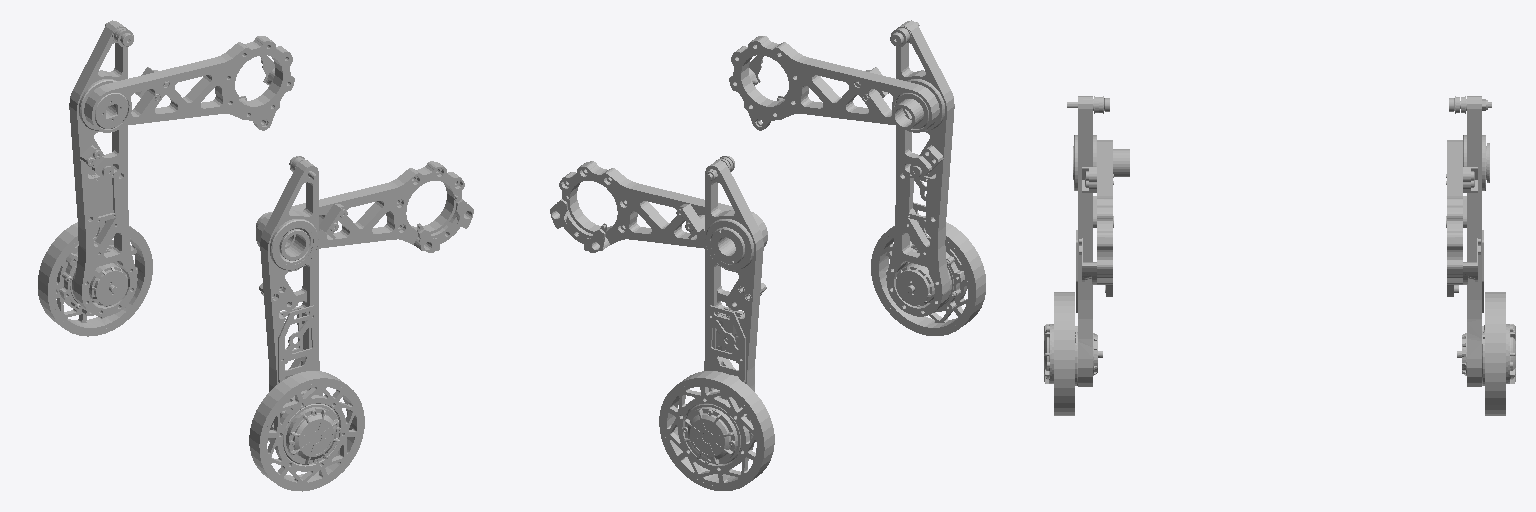
The robot description file, URDF, robot "serialleg":
<?xml version="1.0" encoding="utf-8"?>
<!-- This URDF was automatically created by SolidWorks to URDF Exporter! Originally created by Stephen Brawner (brawner@gmail.com) 
     Commit Version: 1.6.0-4-g7f85cfe  Build Version: 1.6.7995.38578
     For more information, please see http://wiki.ros.org/sw_urdf_exporter -->
<robot name="serialleg" version="1.0">
  <link name="base_link">
    <inertial>
      <origin xyz="-0.02538499 -0.02771589 -0.01835494" rpy="0.0 0.0 0.0"/>
      <mass value="11.88315011"/>
      <inertia ixx="0.15692301" ixy="-4.4833e-05" ixz="0.00570855" iyy="0.16431743" iyz="0.00218109" izz="0.25847355"/>
    </inertial>
    <visual>
      <origin xyz="0.0 0.0 0.0" rpy="0.0 0.0 0.0"/>
      <geometry>
        <mesh filename="../meshes/base_link.STL"/>
      </geometry>
      <material name="">
        <color rgba="0.75294 0.75294 0.75294 1.0"/>
      </material>
    </visual>
    <collision>
      <origin xyz="0.0 0.0 0.0" rpy="0.0 0.0 0.0"/>
      <geometry>
        <mesh filename="../meshes/base_link_0.obj"/>
      </geometry>
    </collision>
    <collision>
      <origin xyz="0.0 0.0 0.0" rpy="0.0 0.0 0.0"/>
      <geometry>
        <mesh filename="../meshes/base_link_1.obj"/>
      </geometry>
    </collision>
    <collision>
      <origin xyz="0.0 0.0 0.0" rpy="0.0 0.0 0.0"/>
      <geometry>
        <mesh filename="../meshes/base_link_2.obj"/>
      </geometry>
    </collision>
    <collision>
      <origin xyz="0.0 0.0 0.0" rpy="0.0 0.0 0.0"/>
      <geometry>
        <mesh filename="../meshes/base_link_3.obj"/>
      </geometry>
    </collision>
    <collision>
      <origin xyz="0.0 0.0 0.0" rpy="0.0 0.0 0.0"/>
      <geometry>
        <mesh filename="../meshes/base_link_4.obj"/>
      </geometry>
    </collision>
    <collision>
      <origin xyz="0.0 0.0 0.0" rpy="0.0 0.0 0.0"/>
      <geometry>
        <mesh filename="../meshes/base_link_5.obj"/>
      </geometry>
    </collision>
    <collision>
      <origin xyz="0.0 0.0 0.0" rpy="0.0 0.0 0.0"/>
      <geometry>
        <mesh filename="../meshes/base_link_6.obj"/>
      </geometry>
    </collision>
    <collision>
      <origin xyz="0.0 0.0 0.0" rpy="0.0 0.0 0.0"/>
      <geometry>
        <mesh filename="../meshes/base_link_7.obj"/>
      </geometry>
    </collision>
    <collision>
      <origin xyz="0.0 0.0 0.0" rpy="0.0 0.0 0.0"/>
      <geometry>
        <mesh filename="../meshes/base_link_8.obj"/>
      </geometry>
    </collision>
    <collision>
      <origin xyz="0.0 0.0 0.0" rpy="0.0 0.0 0.0"/>
      <geometry>
        <mesh filename="../meshes/base_link_9.obj"/>
      </geometry>
    </collision>
    <collision>
      <origin xyz="0.0 0.0 0.0" rpy="0.0 0.0 0.0"/>
      <geometry>
        <mesh filename="../meshes/base_link_10.obj"/>
      </geometry>
    </collision>
    <collision>
      <origin xyz="0.0 0.0 0.0" rpy="0.0 0.0 0.0"/>
      <geometry>
        <mesh filename="../meshes/base_link_11.obj"/>
      </geometry>
    </collision>
  </link>

  <joint name="lf0_Joint" type="revolute">
    <origin xyz="0.0 0.14231 0.020745" rpy="0.0 0.0 0.0"/>
    <axis xyz="0.0 -1.0 0.0"/>
    <parent link="base_link"/>
    <child link="lf0_Link"/>
    <limit effort="45.0" velocity="200.0"/>
    <dynamics damping="0" friction="0"/>
  </joint>

  <link name="lf0_Link">
    <inertial>
      <origin xyz="-0.091189 0.0042584 0.003001" rpy="0.0 0.0 0.0"/>
      <mass value="0.30144"/>
      <inertia ixx="0.00013482" ixy="7.354e-05" ixz="9.6e-05" iyy="0.00152034" iyz="-3.28e-06" izz="0.00144027"/>
    </inertial>
    <visual>
      <origin xyz="0.0 0.0 0.0" rpy="0.0 0.0 0.0"/>
      <geometry>
        <mesh filename="../meshes/Left_thigh_link.STL"/>
      </geometry>
      <material name="">
        <color rgba="0.75294 0.75294 0.75294 1.0"/>
      </material>
    </visual>
    <collision>
      <origin xyz="0.0 0.0 0.0" rpy="0.0 0.0 0.0"/>
      <geometry>
        <mesh filename="../meshes/Left_thigh_link_0.obj"/>
      </geometry>
    </collision>
    <collision>
      <origin xyz="0.0 0.0 0.0" rpy="0.0 0.0 0.0"/>
      <geometry>
        <mesh filename="../meshes/Left_thigh_link_1.obj"/>
      </geometry>
    </collision>
    <collision>
      <origin xyz="0.0 0.0 0.0" rpy="0.0 0.0 0.0"/>
      <geometry>
        <mesh filename="../meshes/Left_thigh_link_2.obj"/>
      </geometry>
    </collision>
    <collision>
      <origin xyz="0.0 0.0 0.0" rpy="0.0 0.0 0.0"/>
      <geometry>
        <mesh filename="../meshes/Left_thigh_link_3.obj"/>
      </geometry>
    </collision>
    <collision>
      <origin xyz="0.0 0.0 0.0" rpy="0.0 0.0 0.0"/>
      <geometry>
        <mesh filename="../meshes/Left_thigh_link_4.obj"/>
      </geometry>
    </collision>
  </link>

  <joint name="lf1_Joint" type="revolute">
    <origin xyz="-0.16689 0.01655 0.0059238" rpy="0.0 0.0 0.0"/>
    <axis xyz="0.0 -1.0 0.0"/>
    <parent link="lf0_Link"/>
    <child link="lf1_Link"/>
    <limit effort="45.0" lower="-0.6" upper="0.8" velocity="200.0"/>    <dynamics damping="0" friction="0"/>  </joint>

  <link name="lf1_Link">
    <inertial>
      <origin xyz="0.0042171 0.0011806 -0.06717" rpy="0.0 0.0 0.0"/>
      <mass value="0.34590115"/>
      <inertia ixx="0.00228076" ixy="-2.25e-06" ixz="-2.679e-05" iyy="0.00237137" iyz="2.641e-05" izz="0.00012383"/>
    </inertial>
    <visual>
      <origin xyz="0.0 0.0 0.0" rpy="0.0 0.0 0.0"/>
      <geometry>
        <mesh filename="../meshes/Left_calf_link.STL"/>
      </geometry>
      <material name="">
        <color rgba="0.75294 0.75294 0.75294 1.0"/>
      </material>
    </visual>
    <collision>
      <origin xyz="0.0 0.0 0.0" rpy="0.0 0.0 0.0"/>
      <geometry>
        <mesh filename="../meshes/Left_calf_link_0.obj"/>
      </geometry>
    </collision>
  </link>

  <joint name="l_wheel_Joint" type="revolute">
    <origin xyz="0.0081627 0.0295 -0.19983" rpy="0.0 0.0 0.0"/>
    <axis xyz="0.0 1.0 0.0"/>
    <parent link="lf1_Link"/>
    <child link="l_wheel_Link"/>
    <limit effort="2.0"  velocity="49.1.0"/>
    <dynamics damping="0" friction="0"/>
  </joint>

  <link name="l_wheel_Link">
    <inertial>
      <origin xyz="-1.0398e-05 -0.0066023 -0.00011589" rpy="0.0 0.0 0.0"/>
      <mass value="0.27783"/>
      <inertia ixx="0.00026478" ixy="-2e-08" ixz="5e-08" iyy="0.0004808" iyz="-3.2e-07" izz="0.00026541"/>
    </inertial>
    <visual>
      <origin xyz="0.0 0.0 0.0" rpy="0.0 0.0 0.0"/>
      <geometry>
        <mesh filename="../meshes/Left_wheel_link.STL"/>
      </geometry>
      <material name="">
        <color rgba="0.75294 0.75294 0.75294 1.0"/>
      </material>
    </visual>
    <collision>
      <origin xyz="0.0 0.0 0.0" rpy="0.0 0.0 0.0"/>
      <geometry>
        <mesh filename="../meshes/Left_wheel_link_0.obj"/>
      </geometry>
    </collision>
    <collision>
      <origin xyz="0.0 0.0 0.0" rpy="0.0 0.0 0.0"/>
      <geometry>
        <mesh filename="../meshes/Left_wheel_link_1.obj"/>
      </geometry>
    </collision>
  </link>

  <joint name="rf0_Joint" type="revolute">
    <origin xyz="0.0 -0.19539 0.020745" rpy="0.0 0.0 0.0"/>
    <axis xyz="0.0 -1.0 0.0"/>
    <parent link="base_link"/>
    <child link="rf0_Link"/>
    <limit effort="45.0" velocity="200.0"/>    <dynamics damping="0" friction="0"/>  </joint>

  <link name="rf0_Link">
    <inertial>
      <origin xyz="-0.10463 -0.0030141 0.0035992" rpy="0.0 0.0 0.0"/>
      <mass value="0.30144247"/>
      <inertia ixx="0.00012942" ixy="-2.305e-05" ixz="9.598e-05" iyy="0.00152033" iyz="1.5e-06" izz="0.00143483"/>
    </inertial>
    <visual>
      <origin xyz="0.0 0.0 0.0" rpy="0.0 0.0 0.0"/>
      <geometry>
        <mesh filename="../meshes/Right_thigh_link.STL"/>
      </geometry>
      <material name="">
        <color rgba="0.75294 0.75294 0.75294 1.0"/>
      </material>
    </visual>
    <collision>
      <origin xyz="0.0 0.0 0.0" rpy="0.0 0.0 0.0"/>
      <geometry>
        <mesh filename="../meshes/Right_thigh_link_0.obj"/>
      </geometry>
    </collision>
    <collision>
      <origin xyz="0.0 0.0 0.0" rpy="0.0 0.0 0.0"/>
      <geometry>
        <mesh filename="../meshes/Right_thigh_link_1.obj"/>
      </geometry>
    </collision>
    <collision>
      <origin xyz="0.0 0.0 0.0" rpy="0.0 0.0 0.0"/>
      <geometry>
        <mesh filename="../meshes/Right_thigh_link_2.obj"/>
      </geometry>
    </collision>
    <collision>
      <origin xyz="0.0 0.0 0.0" rpy="0.0 0.0 0.0"/>
      <geometry>
        <mesh filename="../meshes/Right_thigh_link_3.obj"/>
      </geometry>
    </collision>
    <collision>
      <origin xyz="0.0 0.0 0.0" rpy="0.0 0.0 0.0"/>
      <geometry>
        <mesh filename="../meshes/Right_thigh_link_4.obj"/>
      </geometry>
    </collision>
    <collision>
      <origin xyz="0.0 0.0 0.0" rpy="0.0 0.0 0.0"/>
      <geometry>
        <mesh filename="../meshes/Right_thigh_link_5.obj"/>
      </geometry>
    </collision>
  </link>

  <joint name="rf1_Joint" type="revolute">
    <origin xyz="-0.16677 -0.014325 0.0086821" rpy="0.0 0.0 0.0"/>
    <axis xyz="0.0 -1.0 0.0"/>
    <parent link="rf0_Link"/>
    <child link="rf1_Link"/>
    <limit effort="45.0" lower="-0.6" upper="0.8" velocity="200.0"/>    <dynamics damping="0" friction="0"/>  </joint>

  <link name="rf1_Link">
    <inertial>
      <origin xyz="0.0043749 -0.0027358 -0.055672" rpy="0.0 0.0 0.0"/>
      <mass value="0.29927995"/>
      <inertia ixx="0.00217436" ixy="5e-07" ixz="-2.394e-05" iyy="0.00226126" iyz="-2.371e-05" izz="0.00011464"/>
    </inertial>
    <visual>
      <origin xyz="0.0 0.0 0.0" rpy="0.0 0.0 0.0"/>
      <geometry>
        <mesh filename="../meshes/Right_calf_link.STL"/>
      </geometry>
      <material name="">
        <color rgba="0.75294 0.75294 0.75294 1.0"/>
      </material>
    </visual>
    <collision>
      <origin xyz="0.0 0.0 0.0" rpy="0.0 0.0 0.0"/>
      <geometry>
        <mesh filename="../meshes/Right_calf_link_0.obj"/>
      </geometry>
    </collision>
  </link>

  <joint name="r_wheel_Joint" type="revolute">
    <origin xyz="0.0080419 -0.031725 -0.20259" rpy="0.0 0.0 0.0"/>
    <axis xyz="0.0 1.0 0.0"/>
    <parent link="rf1_Link"/>
    <child link="r_wheel_Link"/>
    <limit effort="2.0"  velocity="49.1"/>
    <dynamics damping="0" friction="0"/>
  </joint>

  <link name="r_wheel_Link">
    <inertial>
      <origin xyz="1.9815e-05 0.0066023 -0.00011465" rpy="0.0 0.0 0.0"/>
      <mass value="0.27783"/>
      <inertia ixx="0.00026479" ixy="-5e-08" ixz="-1e-07" iyy="0.0004808" iyz="3.1e-07" izz="0.0002654"/>
    </inertial>
    <visual>
      <origin xyz="0.0 0.0 0.0" rpy="0.0 0.0 0.0"/>
      <geometry>
        <mesh filename="../meshes/Right_wheel_link.STL"/>
      </geometry>
      <material name="">
        <color rgba="0.75294 0.75294 0.75294 1.0"/>
      </material>
    </visual>
    <collision>
      <origin xyz="0.0 0.0 0.0" rpy="0.0 0.0 0.0"/>
      <geometry>
        <mesh filename="../meshes/Right_wheel_link_0.obj"/>
      </geometry>
    </collision>
    <collision>
      <origin xyz="0.0 0.0 0.0" rpy="0.0 0.0 0.0"/>
      <geometry>
        <mesh filename="../meshes/Right_wheel_link_1.obj"/>
      </geometry>
    </collision>
  </link>
</robot>

--- Render facts (derived) ---
3 views of the same robot in one strip: view 1: azimuth 30°, elevation 25°; view 2: azimuth 150°, elevation 25°; view 3: azimuth 270°, elevation 25° (orthographic).
Robot: serialleg — 7 links, 6 joints (6 revolute); root link base_link; default pose: all joints at 0.
Visible links, largest first — view 1: lf1_Link, r_wheel_Link, lf0_Link, rf1_Link, rf0_Link, l_wheel_Link; view 2: rf1_Link, l_wheel_Link, rf0_Link, lf1_Link, lf0_Link, r_wheel_Link; view 3: lf1_Link, rf1_Link, rf0_Link, l_wheel_Link, r_wheel_Link, lf0_Link.
Boxes of the visible links, x1,y1,x2,y2 form: lf1_Link: (69,20,137,316); r_wheel_Link: (249,371,364,491); lf0_Link: (84,36,294,132); rf1_Link: (259,156,322,441); rf0_Link: (256,161,473,260); l_wheel_Link: (38,222,152,336); rf1_Link: (886,20,954,316); l_wheel_Link: (659,371,774,490); rf0_Link: (729,36,939,132); lf1_Link: (704,156,766,440); lf0_Link: (550,161,767,264); r_wheel_Link: (871,216,985,335); lf1_Link: (1446,96,1491,386); rf1_Link: (1067,96,1113,386); rf0_Link: (1073,140,1129,296); l_wheel_Link: (1457,292,1515,415); r_wheel_Link: (1044,292,1102,415); lf0_Link: (1446,140,1489,296).
Bounding box of the posed robot: 0.26 × 0.4548 × 0.3401 m (x, y, z).
Meshes: 7 distinct files referenced, 6 mesh visuals loaded (6 binary STL); not drawn: 1 (reference not matched to a file when rendering).
